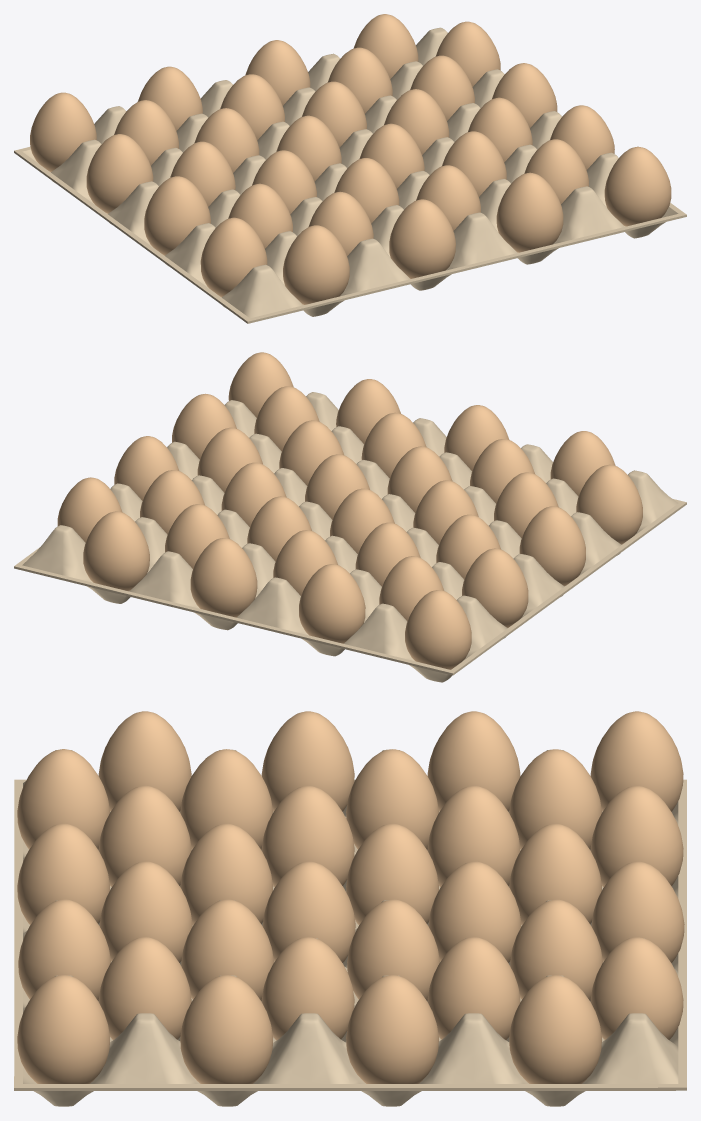
The model's file is eggs.FBX.
The picture shows the model from 3 angles, top to bottom: view 1: azimuth 30°, elevation 25°; view 2: azimuth 150°, elevation 25°; view 3: azimuth 270°, elevation 25°; orthographic projection. The views are drawn at different scales.
Parts seen in each view (by area): view 1: eggs, crate; view 2: eggs, crate; view 3: eggs, crate.
Boxes of the visible parts, box(x1,y1,x2,y2) form: eggs: box(30, 14, 671, 304); crate: box(14, 27, 686, 323); eggs: box(57, 352, 642, 669); crate: box(14, 392, 686, 682); eggs: box(17, 711, 684, 1083); crate: box(14, 749, 686, 1106).
Size of the model in its own units: 460 by 86.99 by 425.
